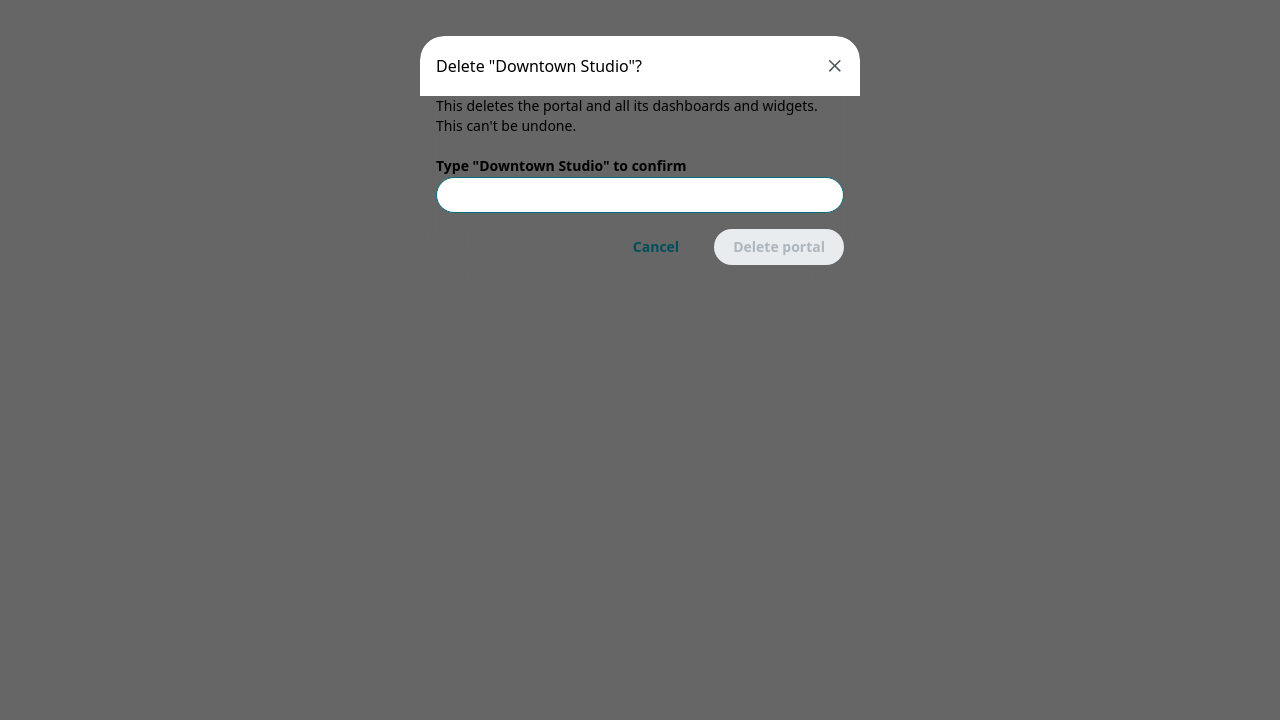
Test: typing the exact name enables it
Expected: the dialog is shown, [420,36,860,281]
Type "Downtown Studio" into the field labelled "Type \"Downtown Studio\" to confirm". click: (640, 195)
box: [436,177,844,213]
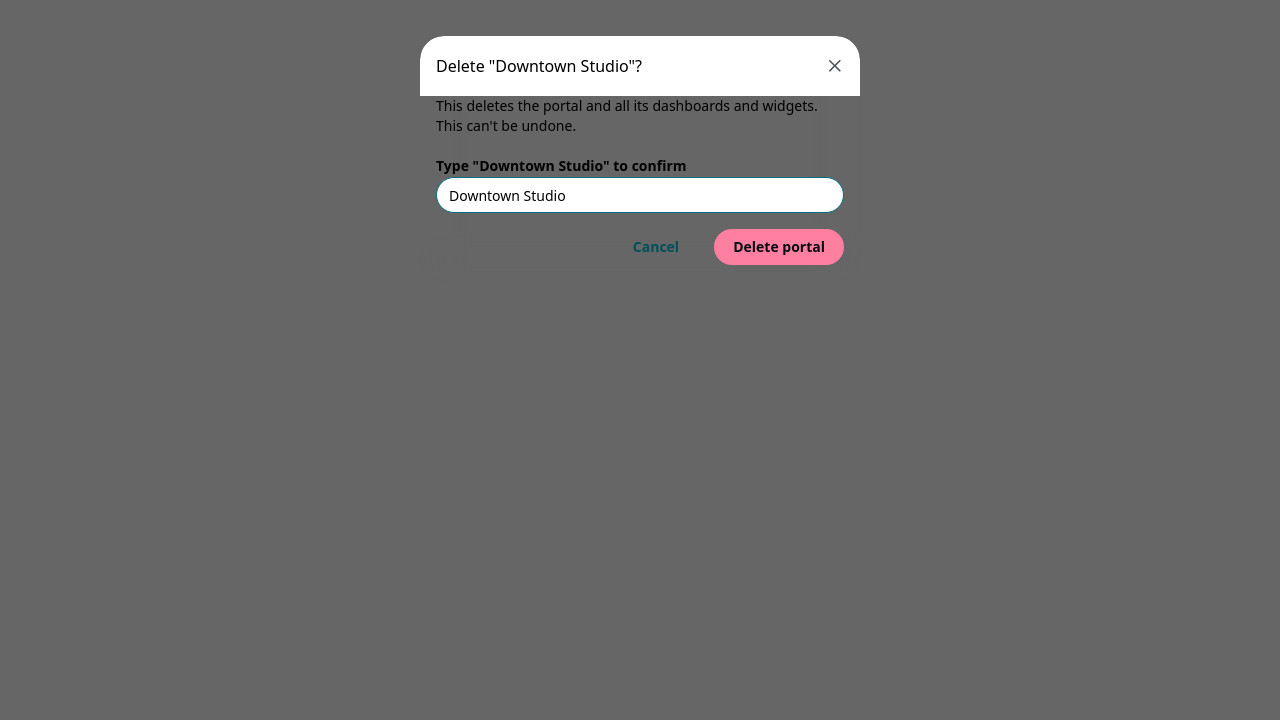
Expected: the button "Delete portal" is enabled, [714,229,844,265]
